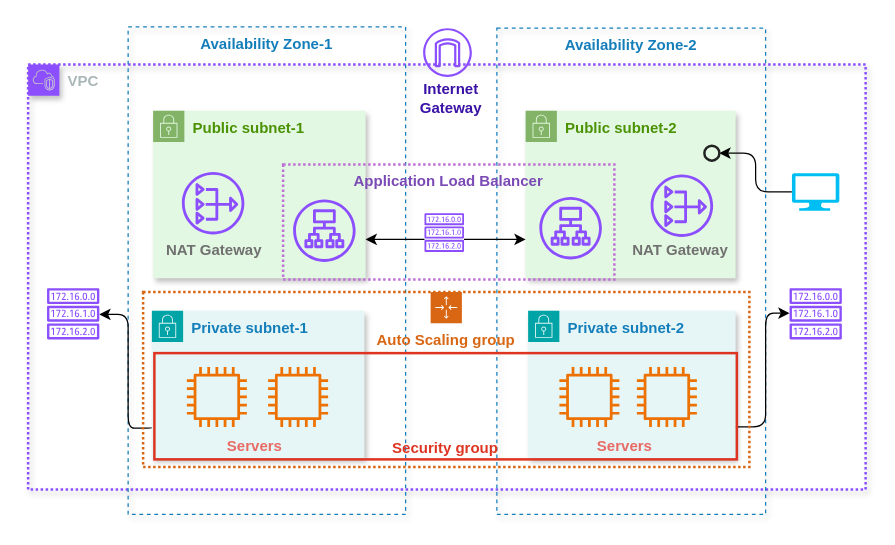
This 895x545 diagram has some shape labels left out. Here are the shapes that lost their labels. From the top down, the centre of each, then its label:
At [815,191]: "Bastion Host".
At [444,231]: "Public-RT".
At [72,313]: "Private RT-1".
At [815,313]: "Private RT-2".
